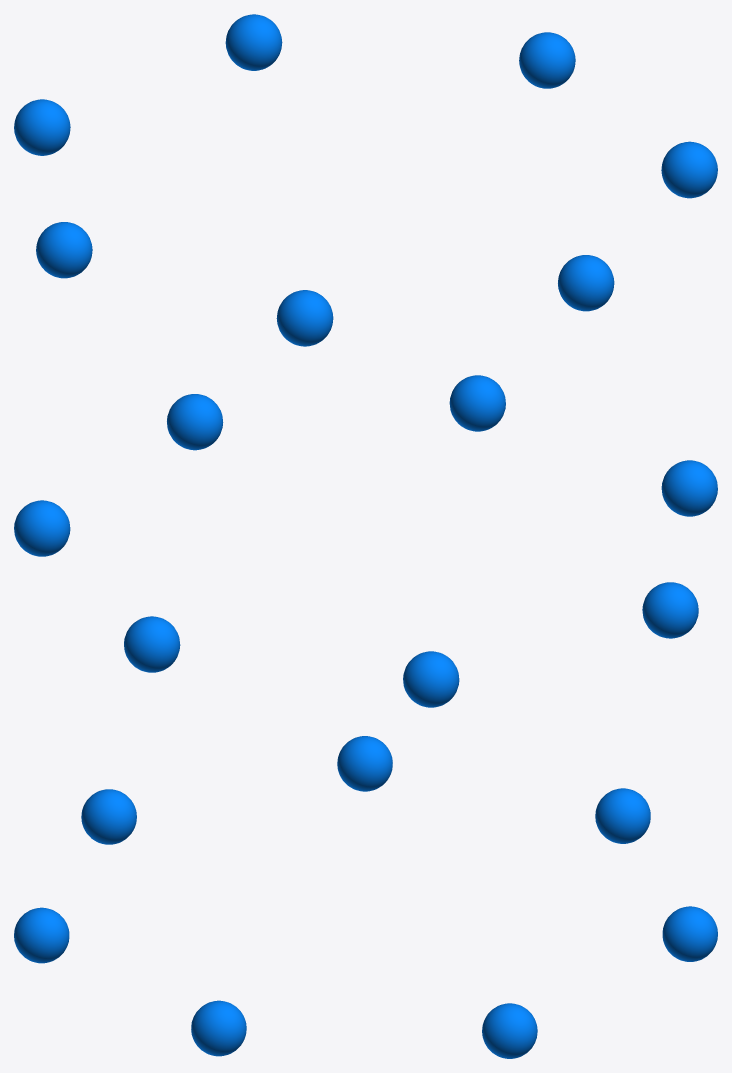
3 views of the same model, one above another, from view 1: azimuth 30°, elevation 25°; view 2: azimuth 150°, elevation 25°; view 3: azimuth 270°, elevation 25° (orthographic).
Visible parts, largest first — view 1: Sphere047; view 2: Sphere047; view 3: Sphere047.
Boxes of the visible parts, x1,y1,x2,y2 form: Sphere047: (14,14,717,346); Sphere047: (14,375,717,707); Sphere047: (14,736,717,1058).
Size of the model in its own units: 102 by 8.22 by 104.
